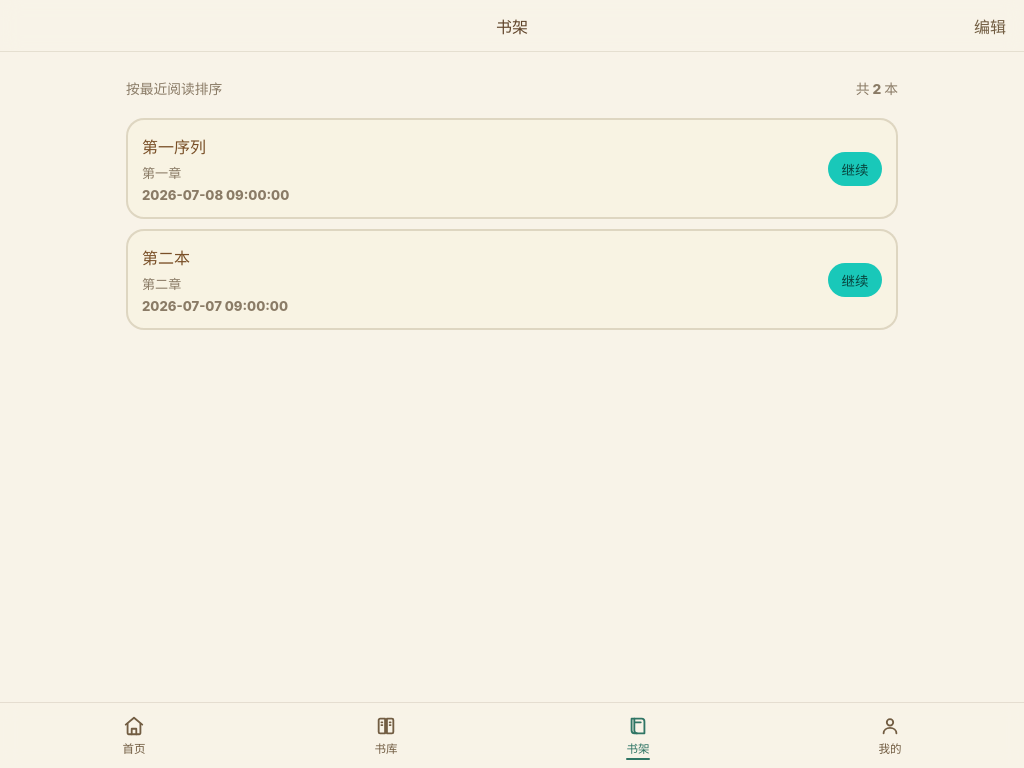
Test: BookshelfPage › enters edit mode, selects all rows, and exits with complete
What coordinates should you click on to do the following:
click the button "编辑"
I would click on:
 (990, 26)
Its box is [968, 12, 1012, 38].
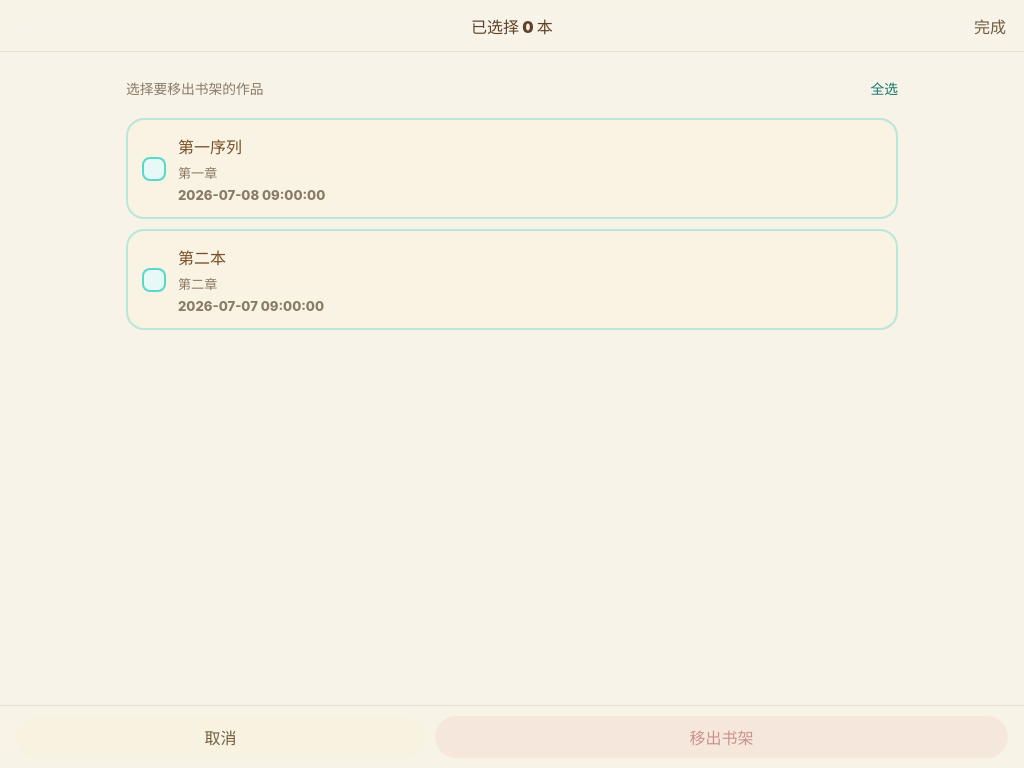
Result: the heading "已选择 0 本" is shown at [471, 14, 553, 38]
What coordinates should you click on to do the following:
click the button "全选"
I would click on:
 (884, 88)
Its box is [870, 78, 898, 98].
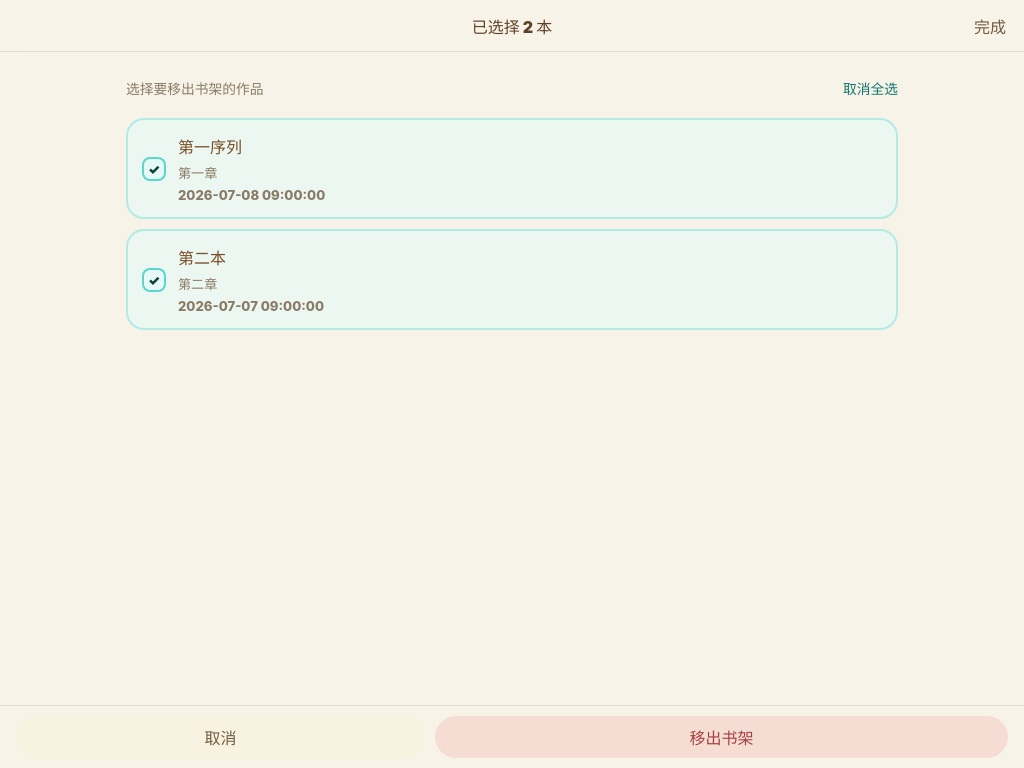
Result: the heading "已选择 2 本" is shown at [472, 14, 552, 38]
What coordinates should you click on to do the following:
click the button "完成"
I would click on:
 (990, 26)
Its box is [968, 12, 1012, 38].
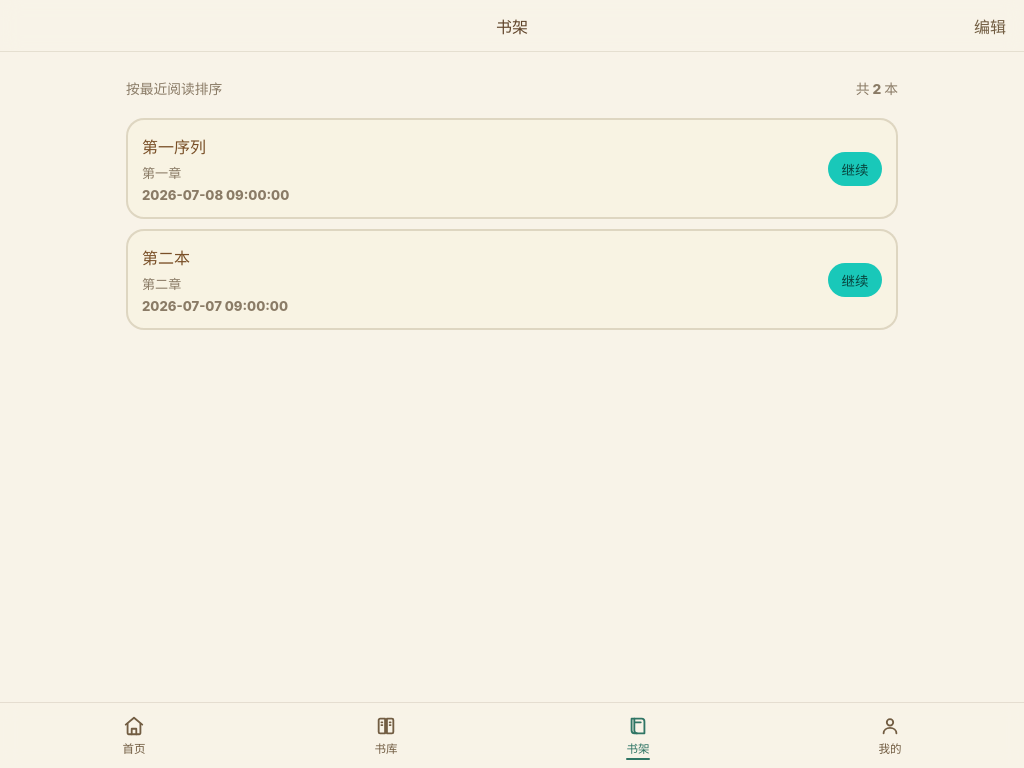
Result: the heading "书架" is shown at [496, 14, 528, 38]
